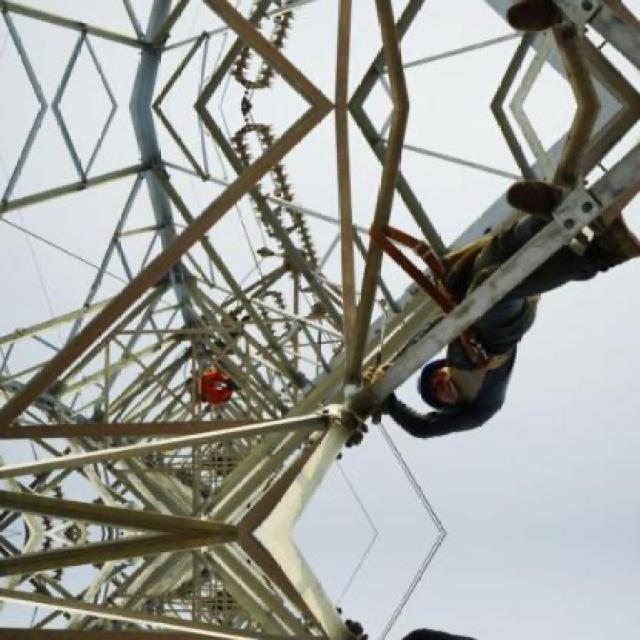con casco: (381, 354, 467, 432)
